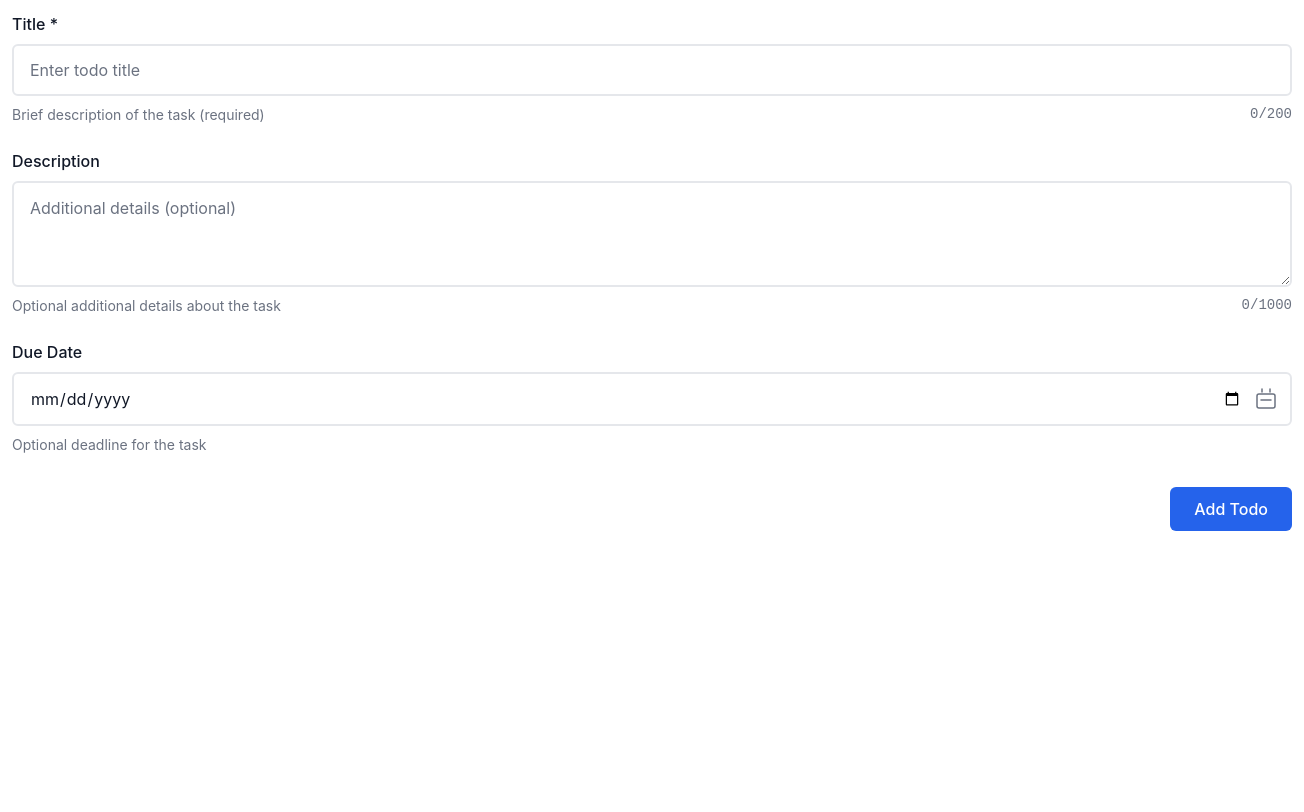
TodoForm › Form Validation › shows validation error for empty title
Click the button "Add Todo" at (1231, 509), box x1=1170 y1=487 x2=1292 y2=531
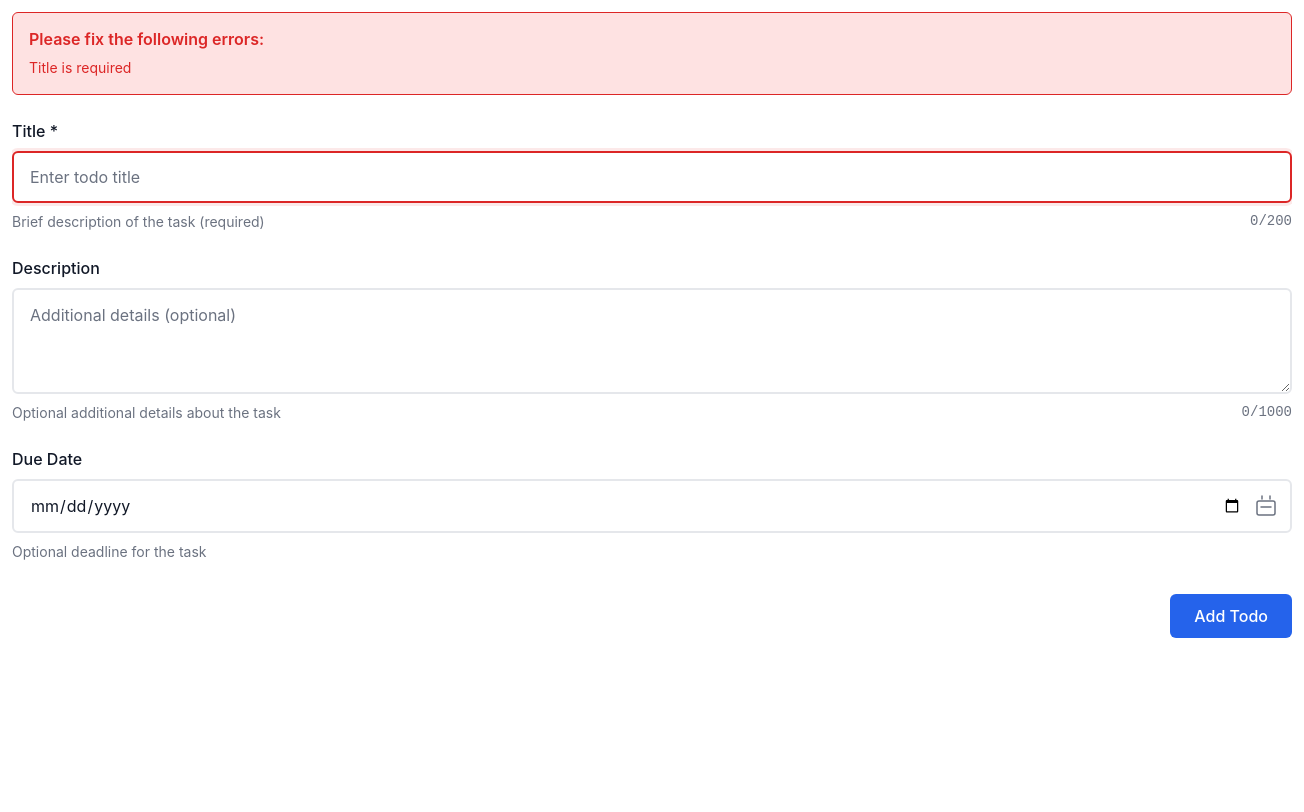
Check: the heading "Please fix the following errors:" is shown, box x1=29 y1=29 x2=264 y2=49
Check: the list item "Title is required" is shown, box x1=29 y1=59 x2=131 y2=76
